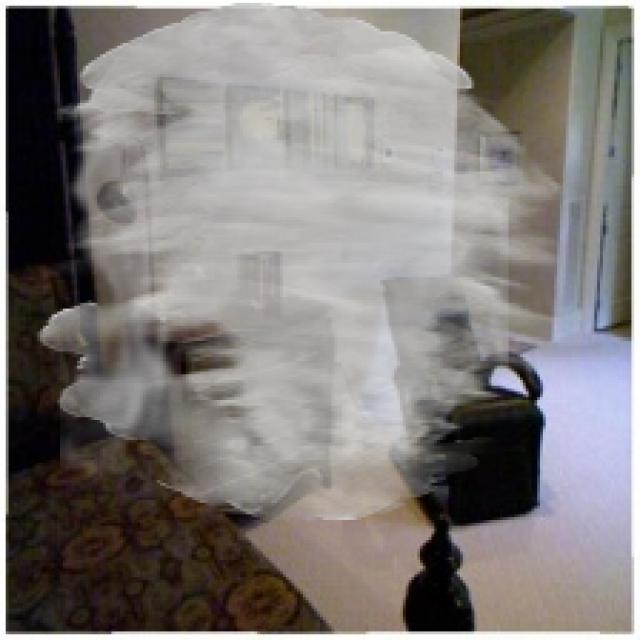smoke: (37, 3, 572, 523)
